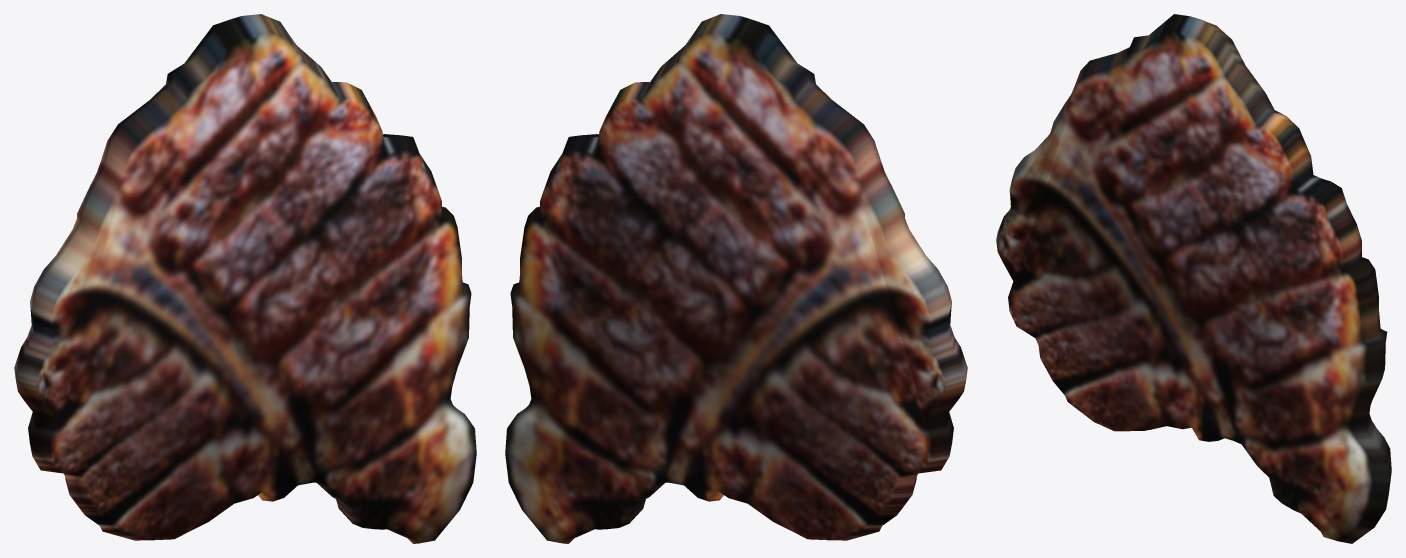
File: steak.FBX
3 views of the same model, side by side, from view 1: azimuth 30°, elevation 25°; view 2: azimuth 150°, elevation 25°; view 3: azimuth 330°, elevation 25° (orthographic). The views are drawn at different scales.
Parts seen in each view (by area): view 1: Plane001; view 2: Plane001; view 3: Plane001.
Boxes of the visible parts, box(x1,y1,x2,y2) form: Plane001: box(14, 14, 476, 543); Plane001: box(505, 14, 967, 543); Plane001: box(996, 14, 1391, 543).
Size of the model in its own units: 94.12 by 112 by 7.57.
Materials: 1 (1 with a texture image).
